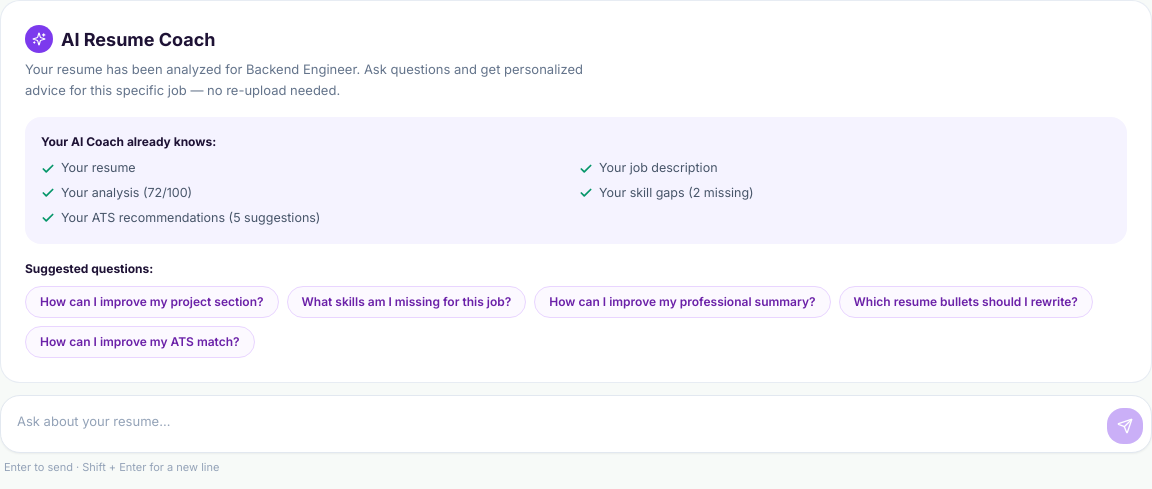
Test case: AICoach › sends a message and renders the AI response
Type "How can I improve?" into the text box labelled "Ask about your resume".
click(554, 424); type("How can I improve?")  # box [9,404,1099,444]
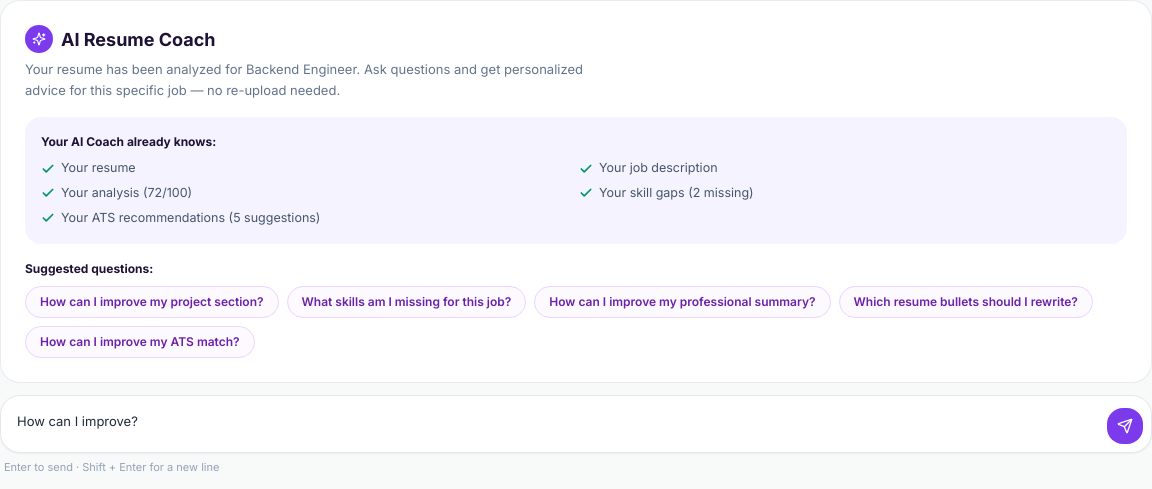
Click the button named "Send message".
click(1125, 426)  # box [1107,408,1143,444]
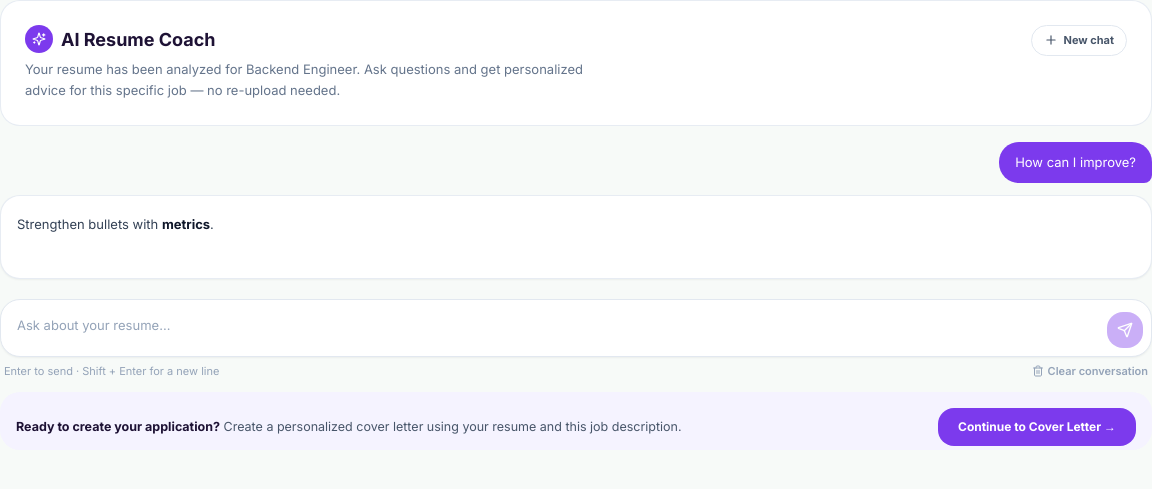
Check: the text "How can I improve?" is shown, box [999,142,1151,183]
Check: the text "Strengthen bullets with metrics." is shown, box [17,216,214,232]
